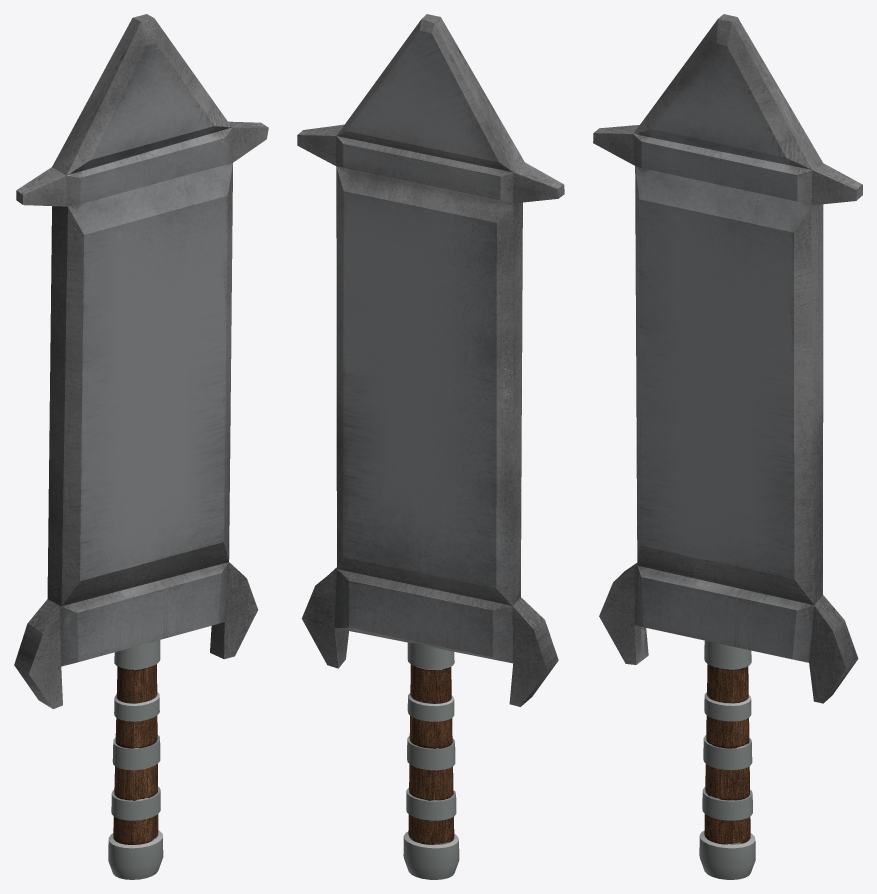
Rendered from sword.fbx.
3 renders of one model, left to right at view 1: azimuth 30°, elevation 25°; view 2: azimuth 150°, elevation 25°; view 3: azimuth 330°, elevation 25°, orthographic.
Visible parts, largest first — view 1: sword; view 2: sword; view 3: sword.
Boxes of the visible parts, x1,y1,x2,y2 form: sword: [14, 14, 268, 879]; sword: [297, 14, 564, 879]; sword: [593, 14, 862, 879].
Size of the model in its own units: 5.25 by 16.83 by 1.16.
Materials: 3 (1 with a texture image).
